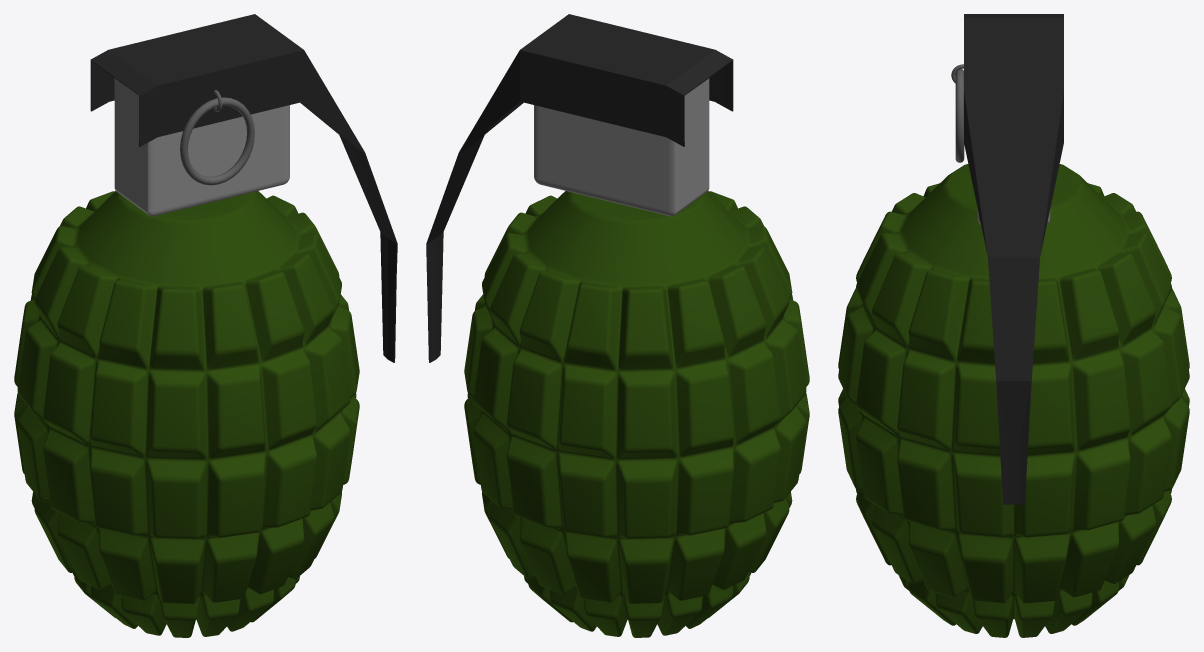
Rendered from boom.fbx.
The picture shows the model from 3 angles, left to right: view 1: azimuth 30°, elevation 25°; view 2: azimuth 150°, elevation 25°; view 3: azimuth 270°, elevation 25°; orthographic projection.
Parts seen in each view (by area): view 1: Plane.002; view 2: Plane.002; view 3: Plane.002.
Boxes of the visible parts, box(x1,y1,x2,y2) form: Plane.002: box(14, 14, 397, 637); Plane.002: box(426, 14, 809, 637); Plane.002: box(838, 14, 1189, 637).
Size of the model in its own units: 256 by 382 by 217.
